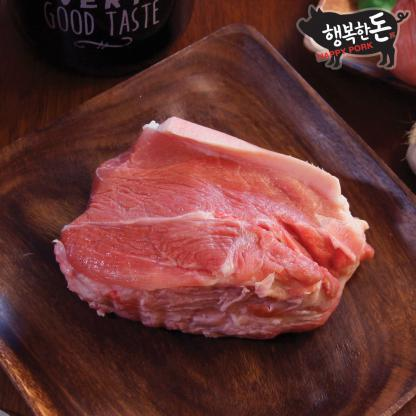pork: (58, 120, 374, 336)
